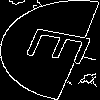E: (24, 25, 100, 70)
